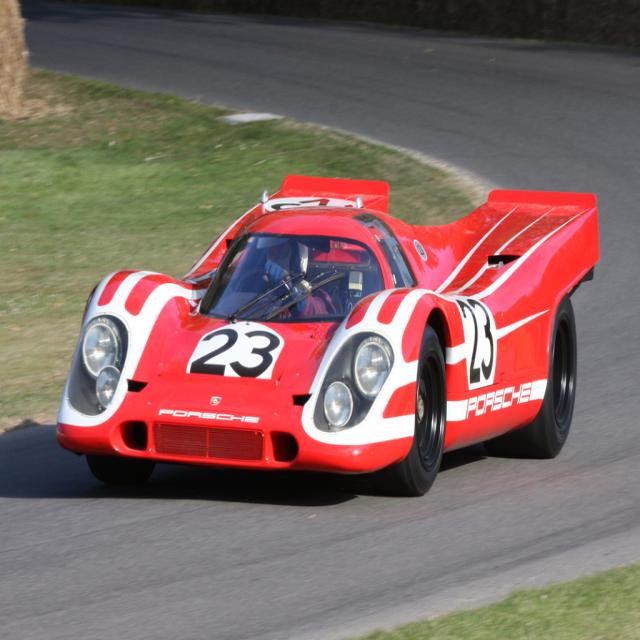car: (51, 167, 582, 505)
